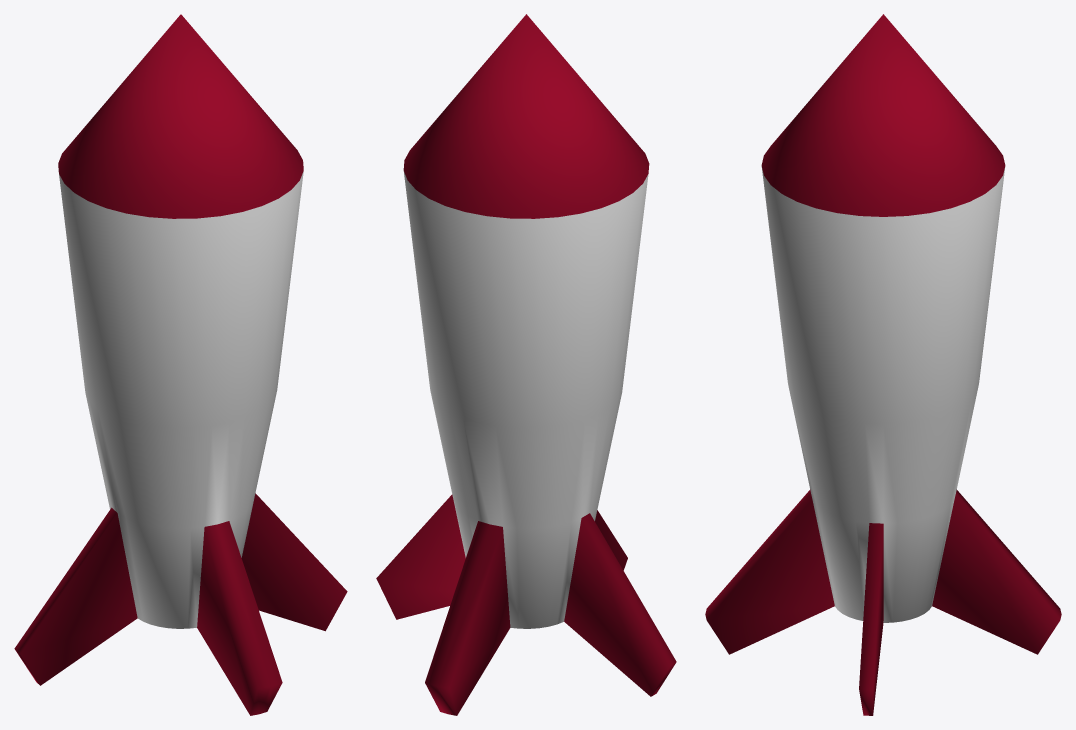
The model's file is rocket1.fbx.
The picture shows the model from 3 angles, left to right: view 1: azimuth 30°, elevation 25°; view 2: azimuth 150°, elevation 25°; view 3: azimuth 270°, elevation 25°; orthographic projection.
Visible parts, largest first — view 1: RocketBody; view 2: RocketBody; view 3: RocketBody.
Boxes of the visible parts, bbox=[...] form: RocketBody: bbox=[14, 14, 347, 715]; RocketBody: bbox=[376, 14, 676, 715]; RocketBody: bbox=[705, 14, 1061, 715].
Bounding box in the file's own units: 292 × 576 × 292.
